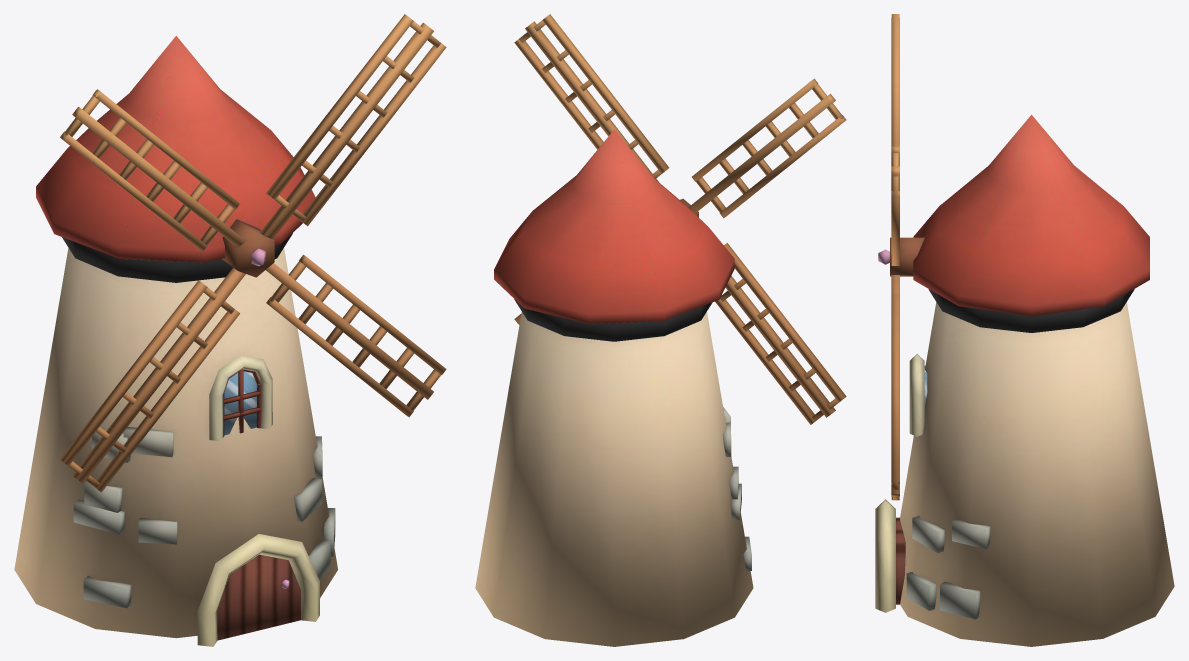
File: mill_1_low.glb
3 renders of one model, left to right at view 1: azimuth 30°, elevation 25°; view 2: azimuth 150°, elevation 25°; view 3: azimuth 270°, elevation 25°, orthographic. The views are drawn at different scales.
Visible parts, largest first — view 1: mill_1, sails; view 2: mill_1, sails; view 3: mill_1, sails.
Boxes of the visible parts, x1,y1,x2,y2 form: mill_1: (14,36,337,646); sails: (60,14,446,492); mill_1: (475,129,753,646); sails: (514,14,846,424); mill_1: (875,115,1174,646); sails: (878,14,899,500).
Bounding box in the file's own units: 1.36 × 1.95 × 1.05.
Materials: 1 (1 with a texture image).
